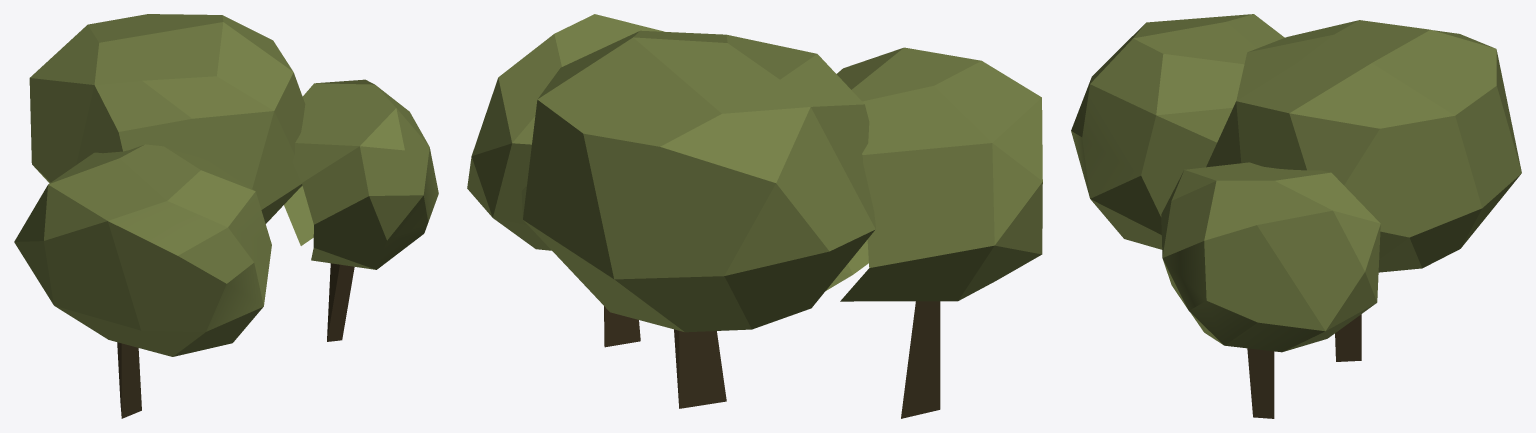
Rendered from BushLowPoly.fbx.
3 renders of one model, left to right at view 1: azimuth 30°, elevation 25°; view 2: azimuth 150°, elevation 25°; view 3: azimuth 270°, elevation 25°, orthographic. The views are drawn at different scales.
Parts seen in each view (by area): view 1: BushLowPoly; view 2: BushLowPoly; view 3: BushLowPoly.
Boxes of the visible parts, x1,y1,x2,y2 form: BushLowPoly: [14, 14, 438, 418]; BushLowPoly: [467, 14, 1042, 418]; BushLowPoly: [1071, 14, 1521, 418].
Bounding box in the file's own units: 43.54 × 31.25 × 38.65.
